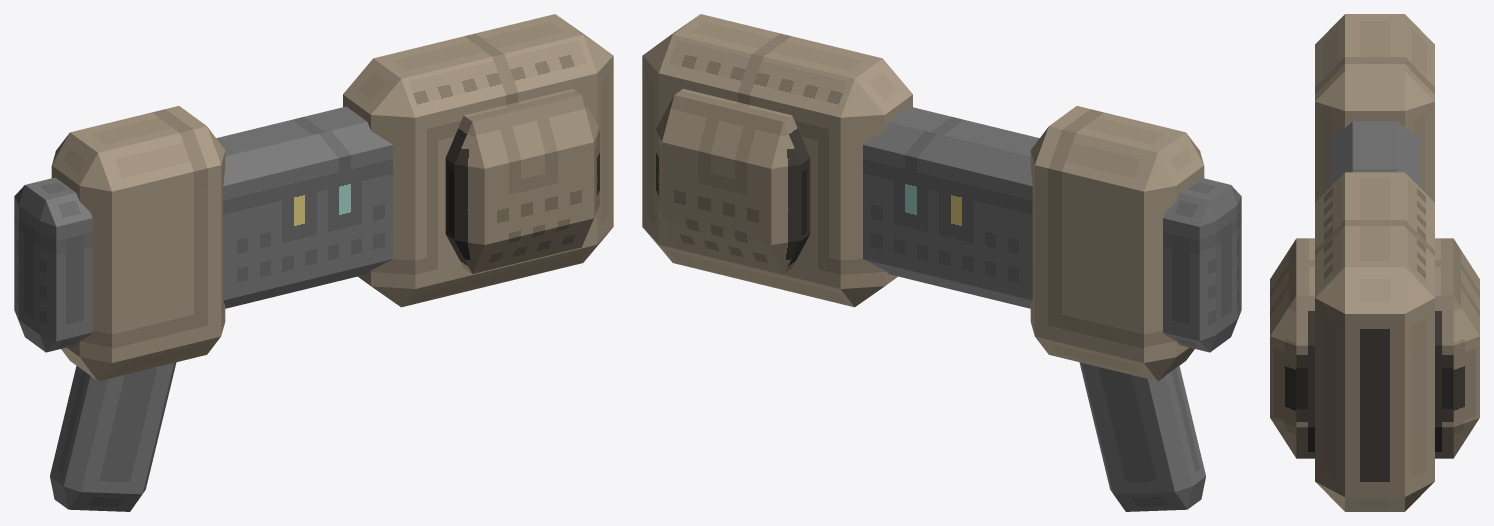
Rendered from blaster2.gltf.
The picture shows the model from 3 angles, left to right: view 1: azimuth 30°, elevation 25°; view 2: azimuth 150°, elevation 25°; view 3: azimuth 270°, elevation 25°; orthographic projection. The views are drawn at different scales.
Visible parts, largest first — view 1: Rear, Muzzle, Barrel, beveled_cuboid, Handle, Hammer; view 2: Rear, Muzzle, Barrel, beveled_cuboid, Handle, Hammer; view 3: Muzzle, beveled_cuboid, Rear, Barrel.
Part boxes in pixels (x1,y1,x2,y2): Rear: (51, 106, 225, 381); Muzzle: (343, 14, 613, 307); Barrel: (216, 106, 392, 308); beveled_cuboid: (445, 89, 599, 273); Handle: (50, 362, 176, 511); Hammer: (14, 177, 92, 352); Rear: (1030, 106, 1204, 381); Muzzle: (642, 14, 912, 307); Barrel: (863, 106, 1039, 308); beveled_cuboid: (656, 89, 810, 273); Handle: (1079, 362, 1205, 511); Hammer: (1163, 177, 1241, 352); Muzzle: (1315, 172, 1434, 511); beveled_cuboid: (1270, 238, 1479, 458); Rear: (1315, 14, 1434, 202); Barrel: (1330, 121, 1419, 187).
Bounding box in the file's own units: 0.7344 × 0.46 × 0.2188.
Materials: 6 (6 with a texture image).
